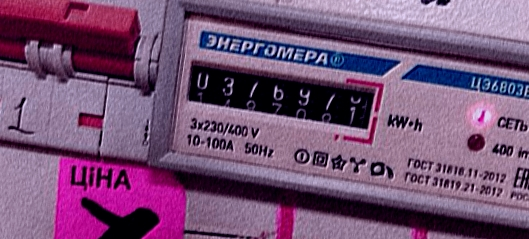0: (193, 68, 212, 91)
1: (345, 104, 359, 126)
3: (219, 73, 236, 98)
6: (271, 79, 287, 102)
7: (245, 74, 261, 100), (321, 87, 337, 112)
9: (295, 84, 311, 107)
screen: (176, 52, 387, 148)
